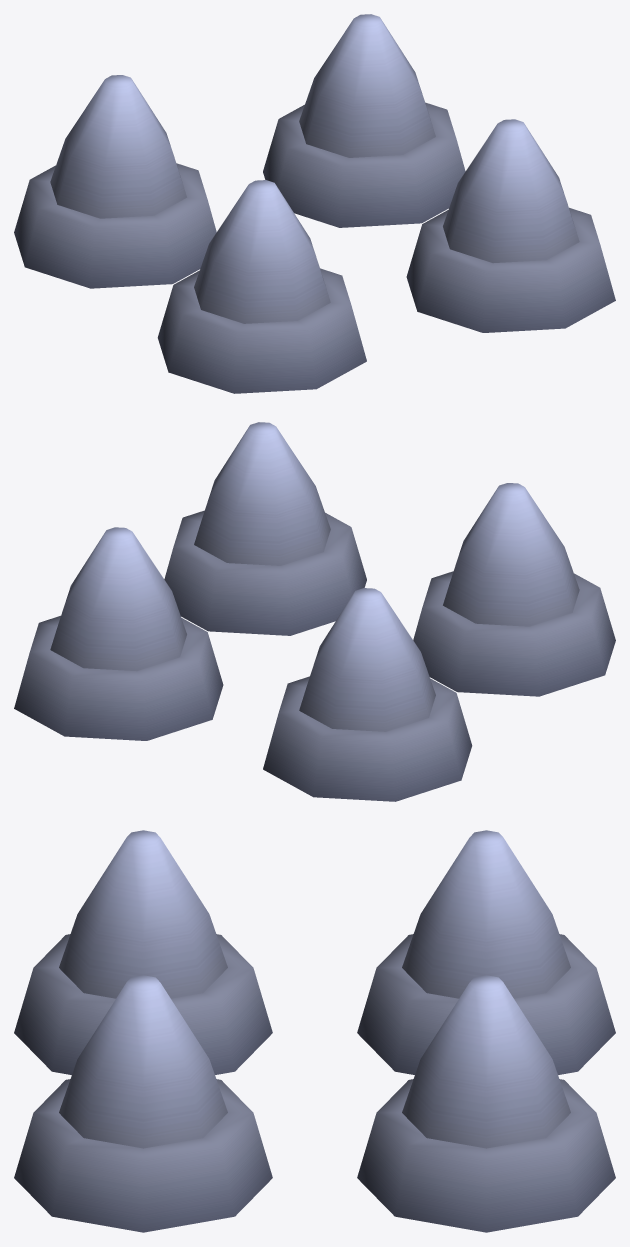
Rendered from trap.fbx.
3 views of the same model, one above another, from view 1: azimuth 30°, elevation 25°; view 2: azimuth 150°, elevation 25°; view 3: azimuth 270°, elevation 25° (orthographic). The views are drawn at different scales.
Visible parts, largest first — view 1: trap, spikes; view 2: trap, spikes; view 3: spikes, trap.
Part boxes in pixels (left/top/right/bottom): trap: left=14, top=102, right=615, bottom=393; spikes: left=50, top=14, right=579, bottom=323; trap: left=14, top=510, right=615, bottom=801; spikes: left=50, top=422, right=579, bottom=731; spikes: left=59, top=830, right=570, bottom=1148; trap: left=14, top=934, right=615, bottom=1232.
Bounding box in the file's own units: 78.97 × 28.31 × 78.97.
